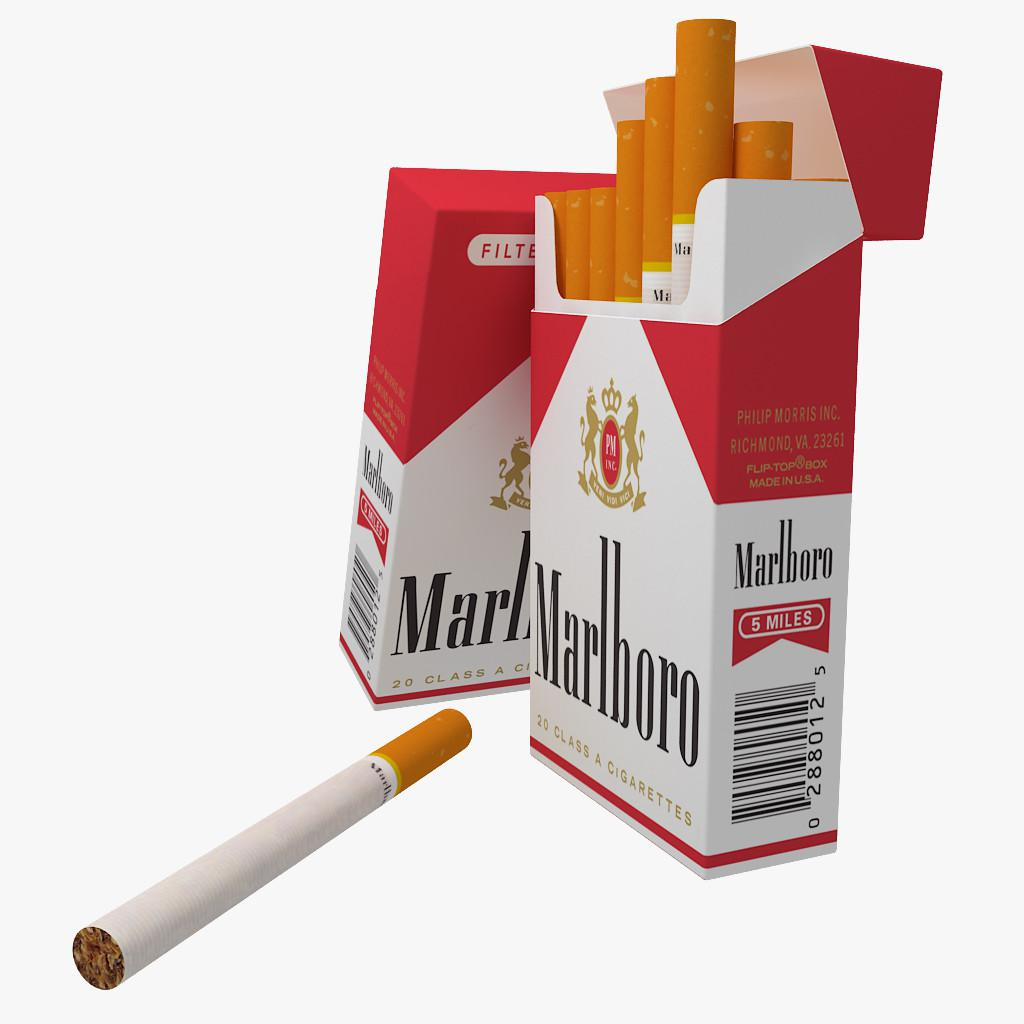marlboro_red: (524, 230, 727, 776)
